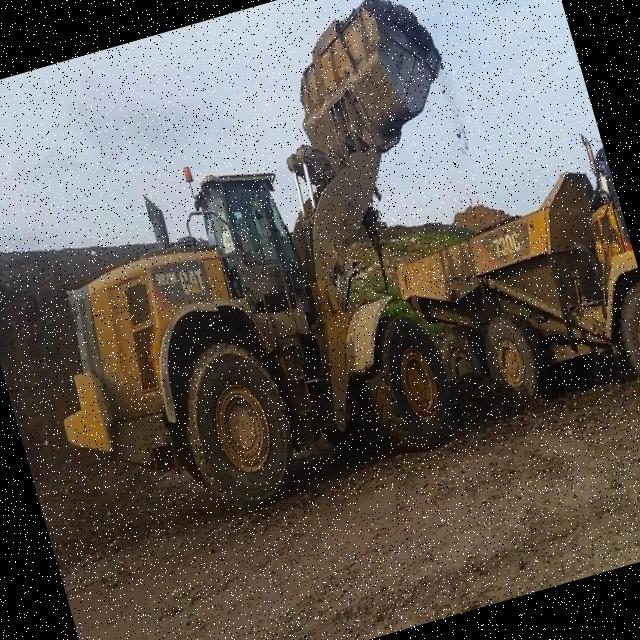Dump Truck: (372, 127, 640, 453)
Loader: (0, 0, 546, 551)
